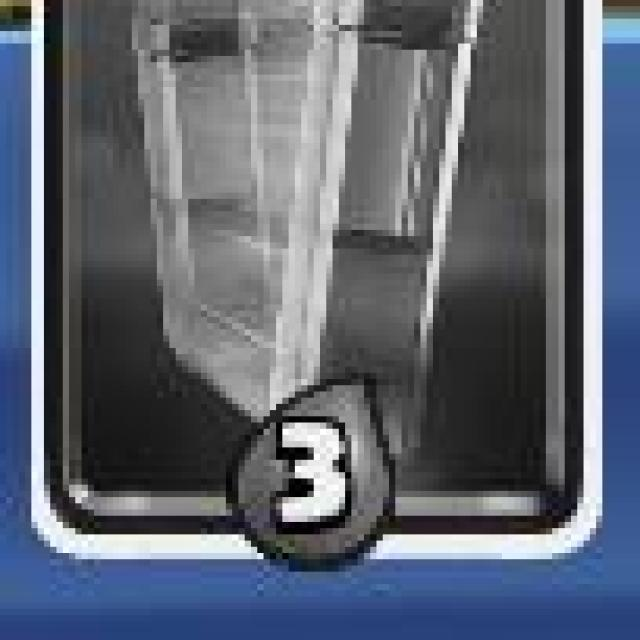Clone_Spell: (27, 0, 613, 570)
